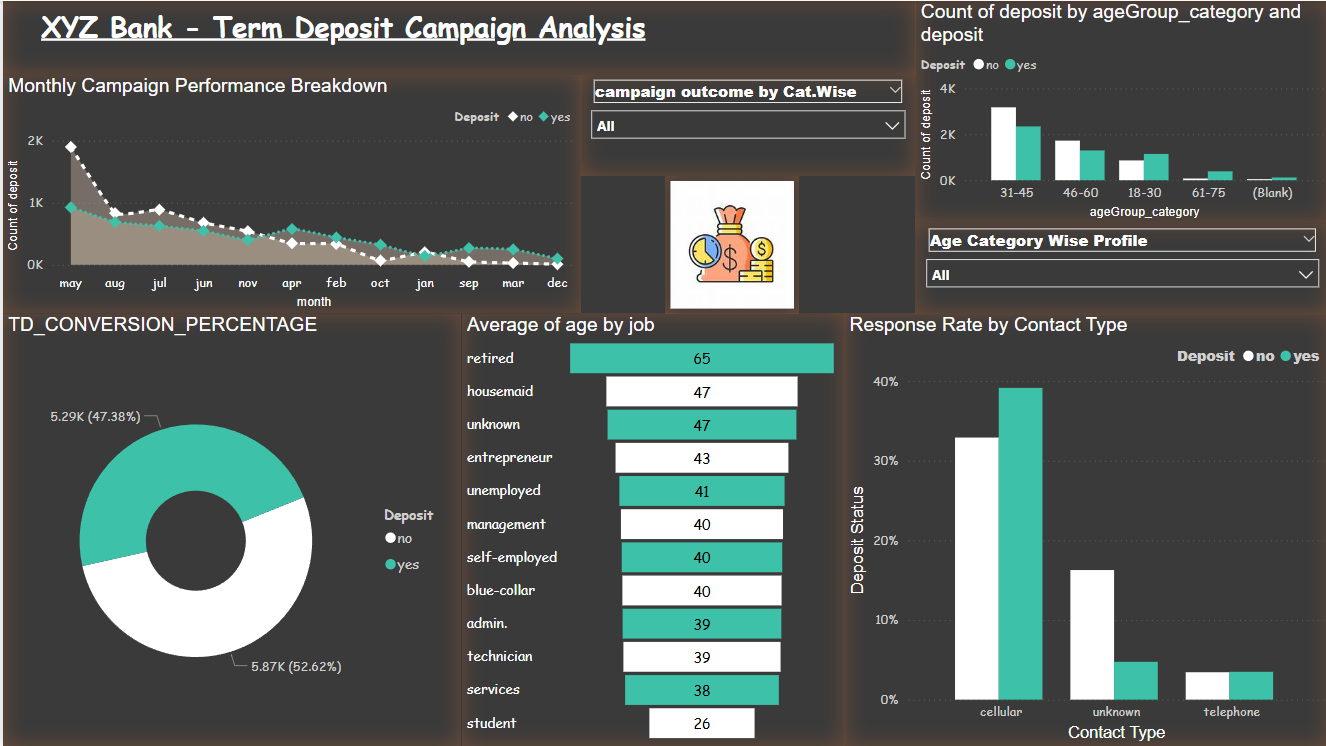

Layout of this report page (visuals, bound fields, positions):
{"tool":"powerbi","page":{"name":"Common_TD_Performance","canvas":[1280,720],"ordinal":1},"visuals":[{"type":"donutChart","title":"TD_CONVERSION_PERCENTAGE","fields":{"Category":["BANK MARKET ANALYSE DATA.deposit"],"Y":["CountNonNull(BANK MARKET ANALYSE DATA.deposit)"]},"box":[0,302,442.7,418.2],"z":0},{"type":"actionButton","box":[0,0,100,40],"z":1000},{"type":"slicer","fields":{"Values":["BANK MARKET ANALYSE DATA.poutcome","BANK MARKET ANALYSE DATA.deposit"]},"box":[557.4,71.2,323.3,97.7],"z":2000},{"type":"funnel","fields":{"Y":["Avg(BANK MARKET ANALYSE DATA.age)"],"Category":["BANK MARKET ANALYSE DATA.job"]},"box":[442.7,302,369.3,418.2],"z":3000},{"type":"clusteredColumnChart","title":"Response Rate by Contact Type","fields":{"Category":["BANK MARKET ANALYSE DATA.contact"],"Y":["CountNonNull(BANK MARKET ANALYSE DATA.deposit)"],"Series":["BANK MARKET ANALYSE DATA.deposit"]},"box":[812,302,468.3,418.2],"z":4000},{"type":"slicer","fields":{"Values":["BANK MARKET ANALYSE DATA.ageGroup_category","BANK MARKET ANALYSE DATA.job","BANK MARKET ANALYSE DATA.contact"]},"box":[880.7,214.7,399.3,86.9],"z":5000},{"type":"textbox","box":[0,0,880.7,71.2],"z":6000},{"type":"clusteredColumnChart","fields":{"Category":["BANK MARKET ANALYSE DATA.ageGroup_category"],"Y":["CountNonNull(BANK MARKET ANALYSE DATA.deposit)"],"Series":["BANK MARKET ANALYSE DATA.deposit"]},"box":[880.7,0,399.3,214.7],"z":7000},{"type":"lineChart","title":"Monthly Campaign Performance Breakdown","fields":{"Category":["BANK MARKET ANALYSE DATA.month"],"Y":["CountNonNull(BANK MARKET ANALYSE DATA.deposit)"],"Series":["BANK MARKET ANALYSE DATA.deposit"]},"box":[0,71.2,557.4,230.4],"z":8000},{"type":"image","box":[639.4,168.9,129.1,132.7],"z":9000}]}

Visuals, with their boxes in screenshot pixels (x1, y1, x2, y2), scaled from the page's 1280x720 canvas onto the 1326x746 screenshot:
"TD_CONVERSION_PERCENTAGE" donutChart: Rect(0, 313, 459, 745)
actionButton: Rect(0, 0, 104, 41)
slicer - BANK MARKET ANALYSE DATA.poutcome x BANK MARKET ANALYSE DATA.deposit: Rect(577, 74, 912, 175)
funnel - Avg(BANK MARKET ANALYSE DATA.age) x BANK MARKET ANALYSE DATA.job: Rect(459, 313, 841, 745)
"Response Rate by Contact Type" clusteredColumnChart: Rect(841, 313, 1325, 745)
slicer - BANK MARKET ANALYSE DATA.ageGroup_category x BANK MARKET ANALYSE DATA.job: Rect(912, 222, 1325, 312)
textbox: Rect(0, 0, 912, 74)
clusteredColumnChart - BANK MARKET ANALYSE DATA.ageGroup_category x CountNonNull(BANK MARKET ANALYSE DATA.deposit): Rect(912, 0, 1325, 222)
"Monthly Campaign Performance Breakdown" lineChart: Rect(0, 74, 577, 312)
image: Rect(662, 175, 796, 312)
